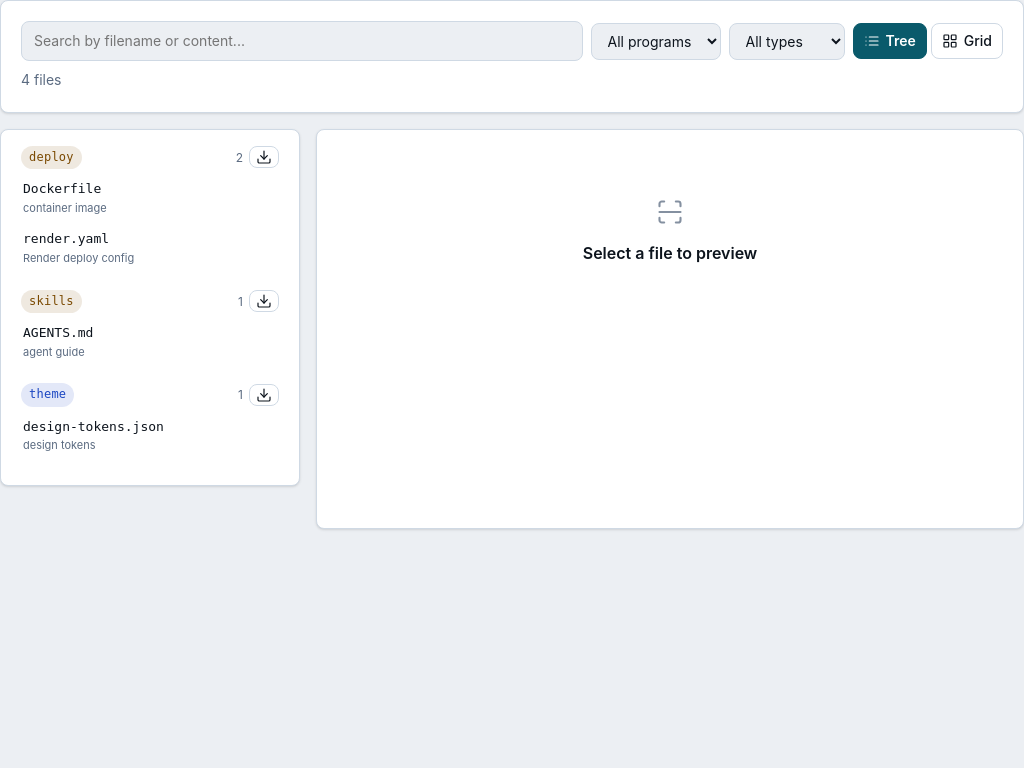
Test: ArtifactExplorer — search › keeps showing an already-selected file's preview even after a search narrows it out of the list
Click the button titled "design-tokens.json": [150, 436] box [13,410,287,461]
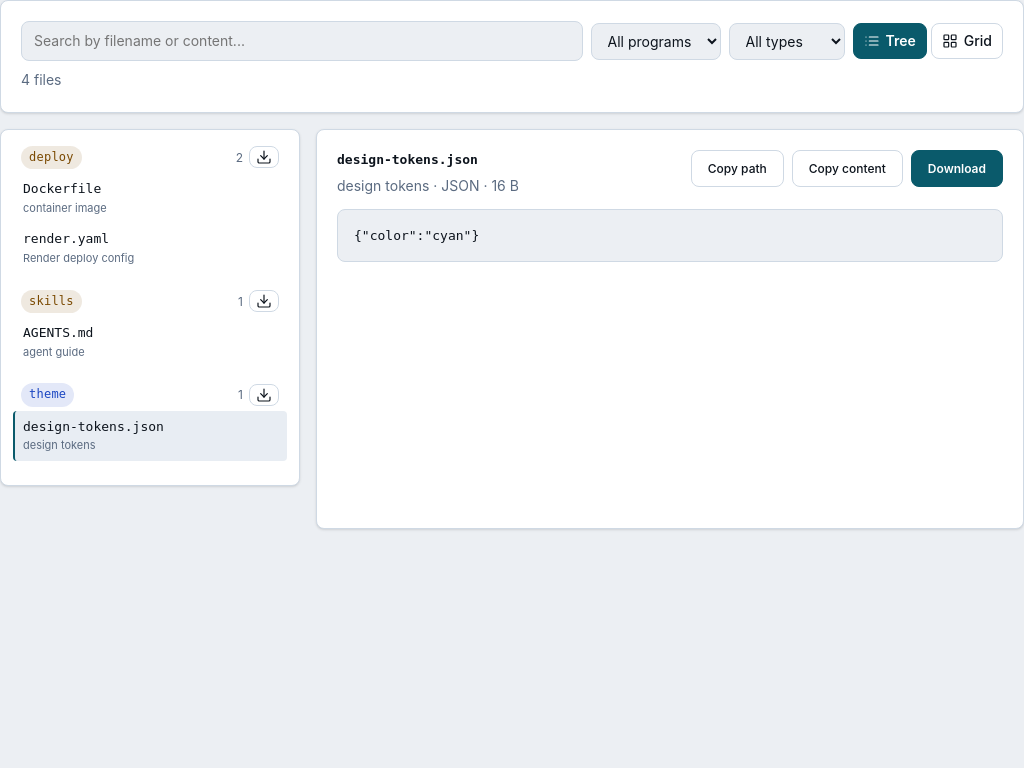
Check: the heading "design-tokens.json" is shown, box [337,152,478,167]
In the field named "Search artifacts": [302, 41] box [21,21,583,61], type "docker"
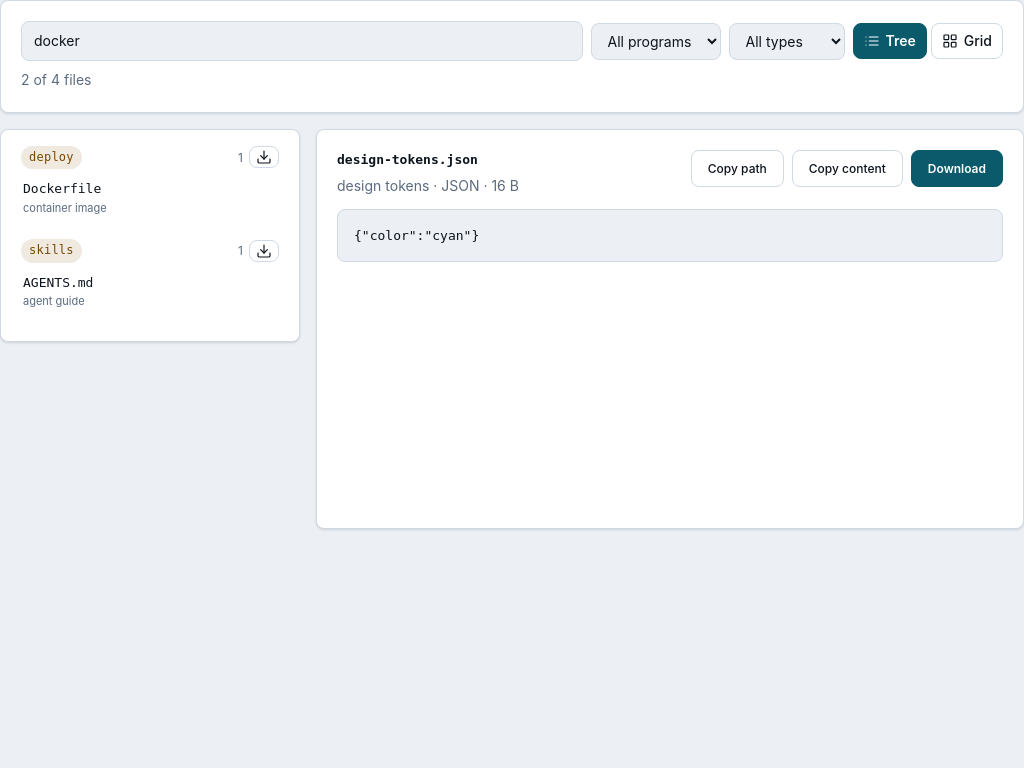
Check: the heading "design-tokens.json" is shown, box [337,152,478,167]
Check: the text "2 of 4 files" is shown, box [21,71,92,88]
